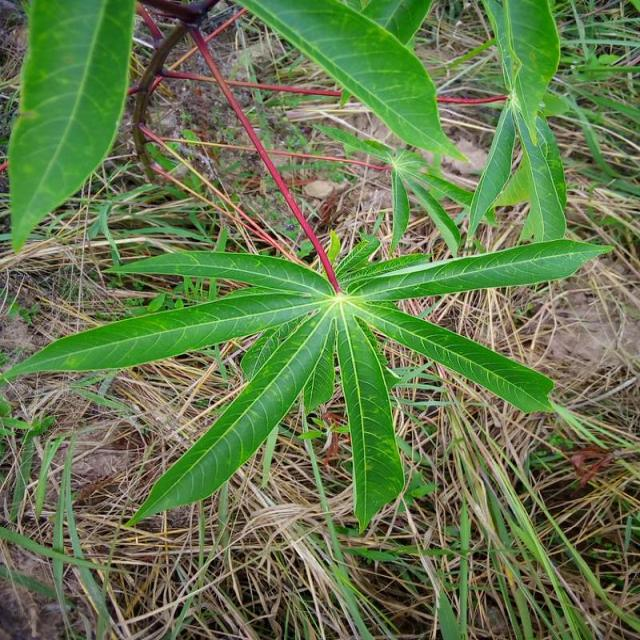cassava leaf: (3, 223, 612, 533), (230, 0, 468, 162), (6, 0, 136, 253)
